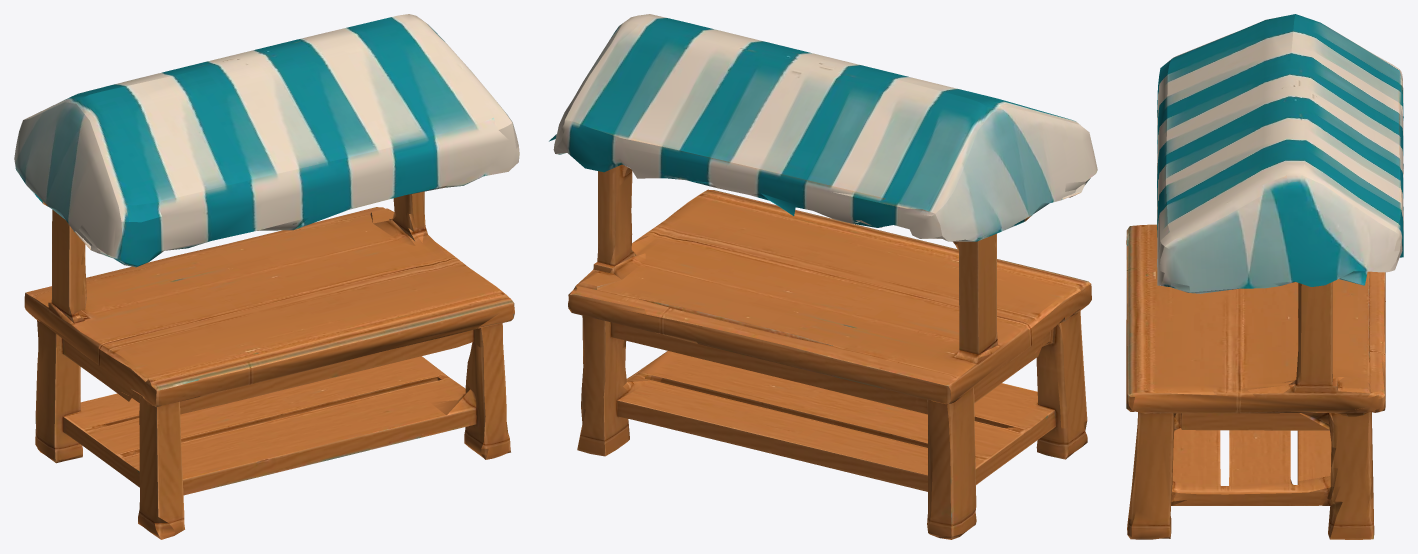
File: pazar-tezgahi.glb
The picture shows the model from 3 angles, left to right: view 1: azimuth 30°, elevation 25°; view 2: azimuth 150°, elevation 25°; view 3: azimuth 270°, elevation 25°; orthographic projection. The views are drawn at different scales.
Visible parts, largest first — view 1: Mesh0; view 2: Mesh0; view 3: Mesh0.
Part boxes in pixels (box(x1,y1,x2,y2)): Mesh0: box(14, 14, 519, 539); Mesh0: box(549, 14, 1097, 539); Mesh0: box(1126, 14, 1403, 539).
Size of the model in its own units: 1.89 by 1.65 by 1.13.
1 material, 1 textured.
